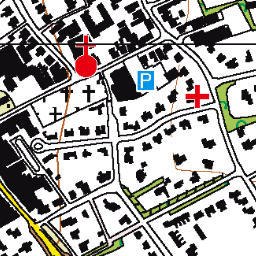church: (72, 31, 100, 79)
